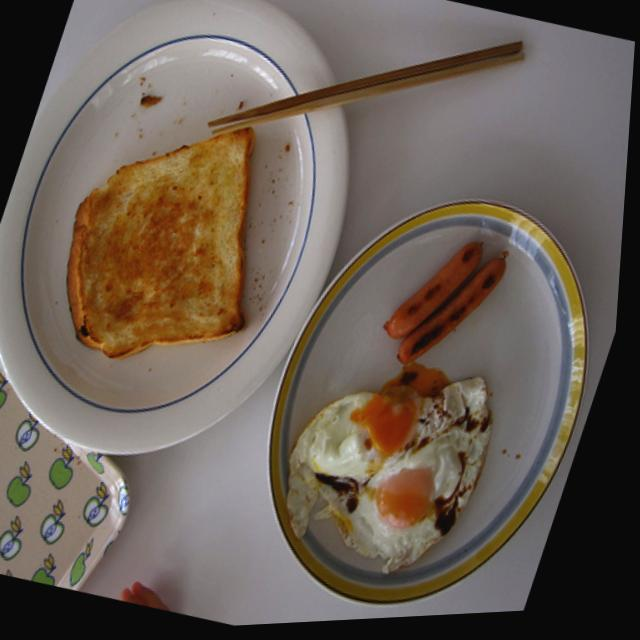面包点心: (0, 0, 406, 489)
鸡蛋料理: (221, 161, 630, 630)
